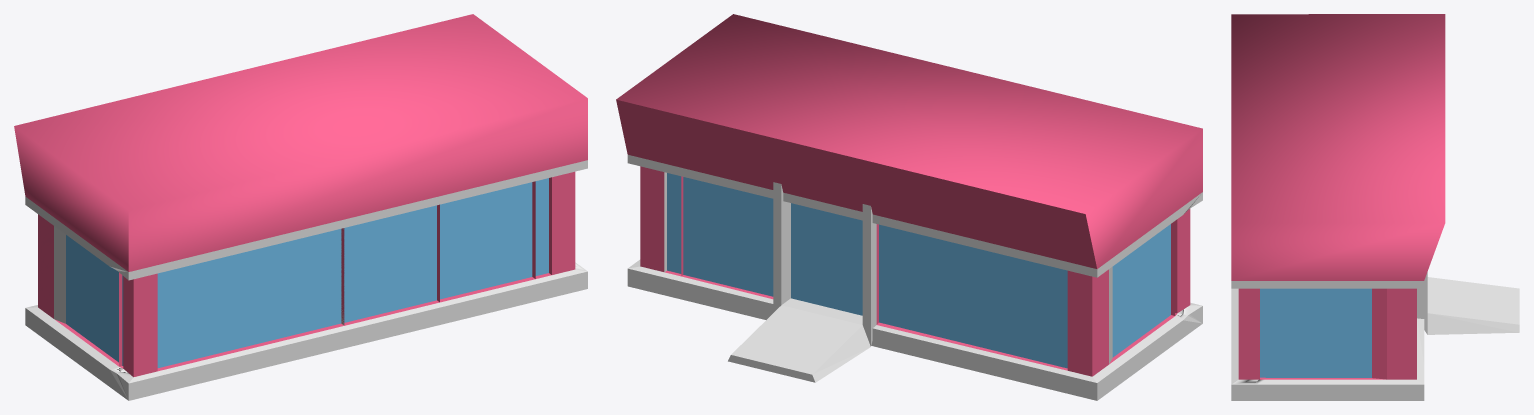
File: Shop5x2x2Pink.fbx
The picture shows the model from 3 angles, left to right: view 1: azimuth 30°, elevation 25°; view 2: azimuth 150°, elevation 25°; view 3: azimuth 270°, elevation 25°; orthographic projection. The views are drawn at different scales.
Visible parts, largest first — view 1: Shop.002; view 2: Shop.002; view 3: Shop.002.
Part boxes in pixels (x1,y1,x2,y2): Shop.002: (14,14,587,400); Shop.002: (616,14,1202,400); Shop.002: (1231,14,1519,400).
Size of the model in its own units: 4.99 by 1.98 by 2.91.
Materials: 1 (1 with a texture image).
